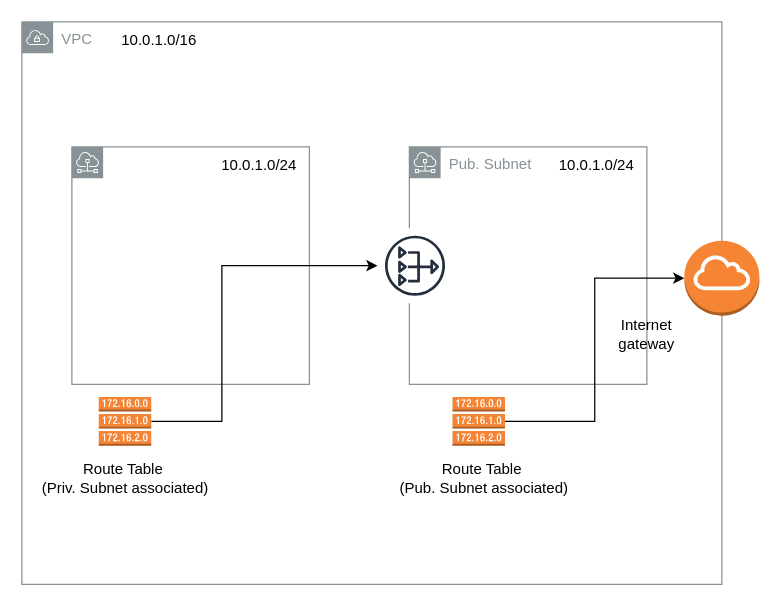
Image size: 781x606. Some labels were removed from this diagram. Each missing label, with the box of its shape:
NAT gateway: (376, 227, 452, 303)
Priv. Subnet: (71, 146, 309, 384)
